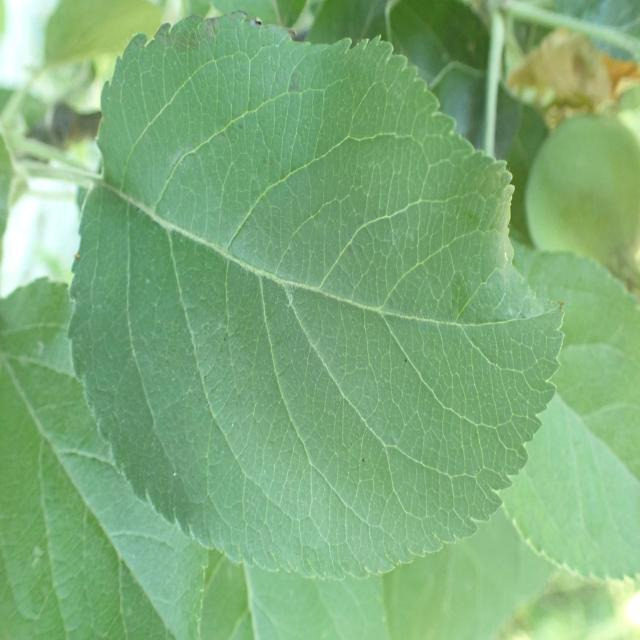healthy: (68, 9, 566, 583), (0, 276, 209, 639), (498, 245, 640, 582)
